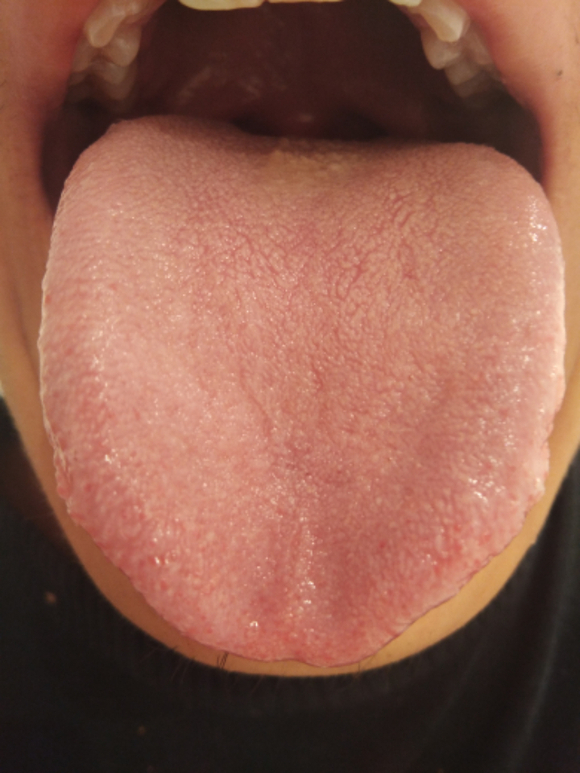hongshe: (42, 113, 565, 664)
